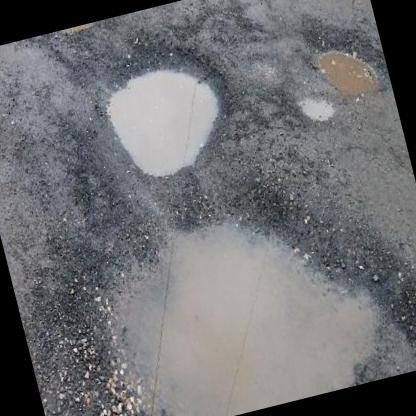pothole: (59, 142, 416, 416), (86, 32, 242, 191), (302, 14, 392, 109), (294, 84, 338, 128)
